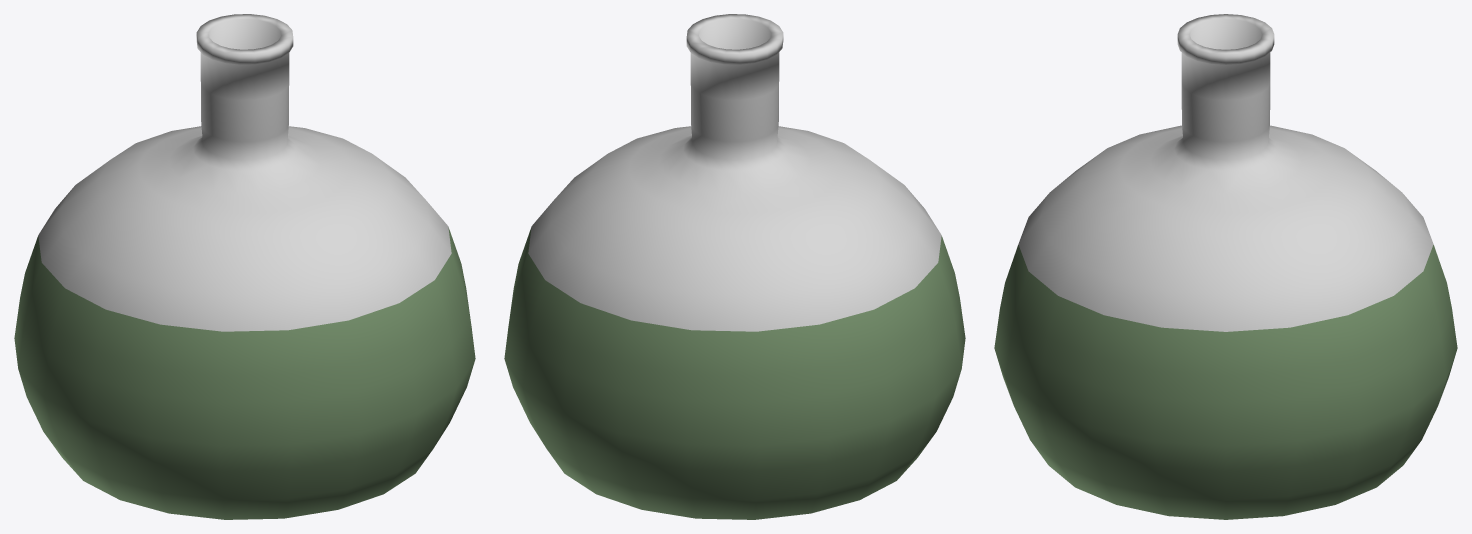
File: Flask.fbx
The picture shows the model from 3 angles, left to right: view 1: azimuth 30°, elevation 25°; view 2: azimuth 150°, elevation 25°; view 3: azimuth 270°, elevation 25°; orthographic projection.
Visible parts, largest first — view 1: Circle.001; view 2: Circle.001; view 3: Circle.001.
Boxes of the visible parts, <box> form: Circle.001: <box>14,14,475,519</box>; Circle.001: <box>504,14,965,519</box>; Circle.001: <box>994,14,1457,519</box>.
Bounding box in the file's own units: 0.1637 × 0.1622 × 0.1637.
